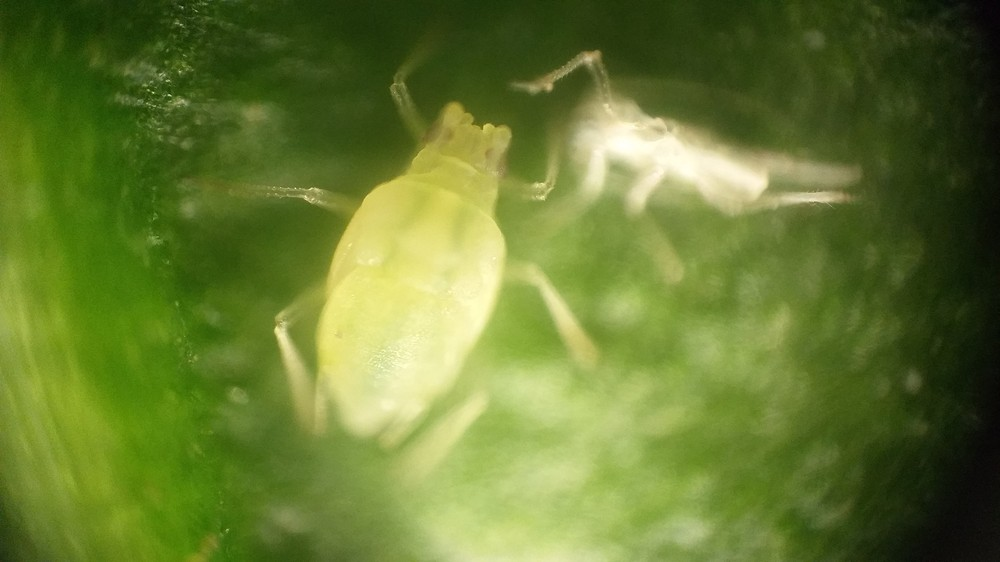Pulgon: (240, 45, 616, 504)
